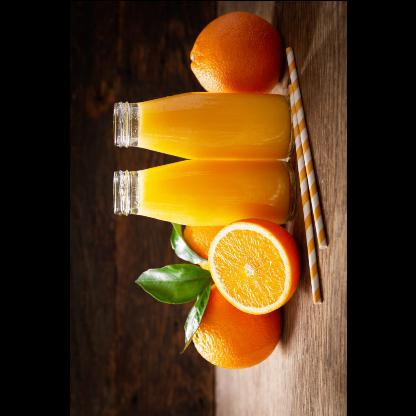orange juice: (135, 90, 291, 160), (135, 158, 291, 226)
